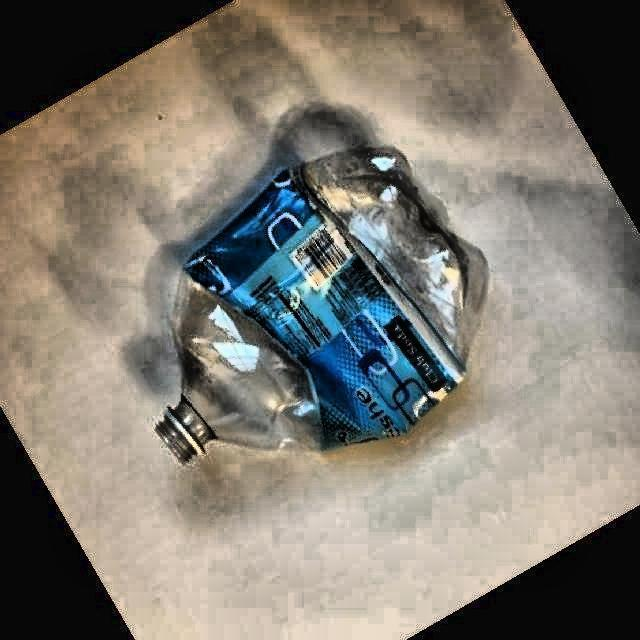plastic: (156, 148, 486, 461)
